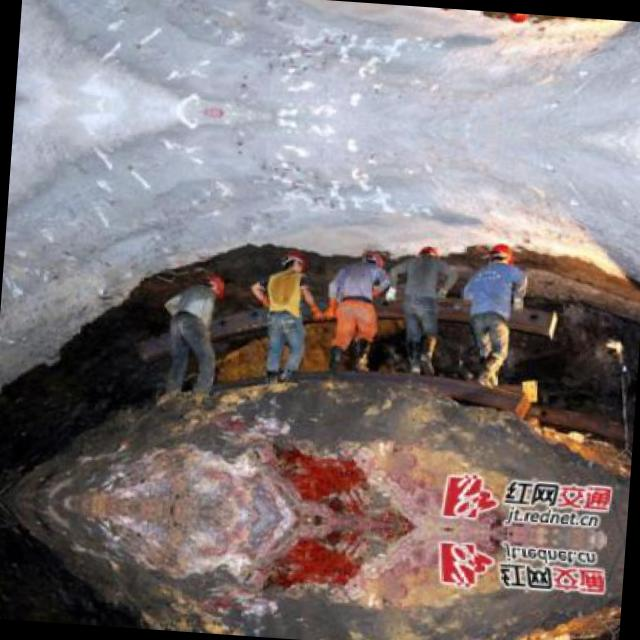helmet: (486, 238, 522, 270), (356, 247, 388, 274), (278, 248, 308, 274), (202, 274, 227, 300), (502, 12, 538, 28), (413, 240, 440, 260), (430, 8, 458, 16)
